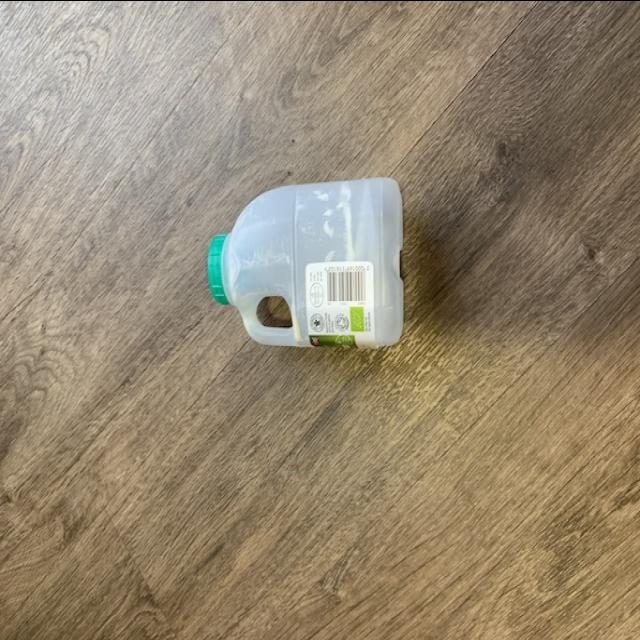HDPEM: (206, 178, 406, 348)
